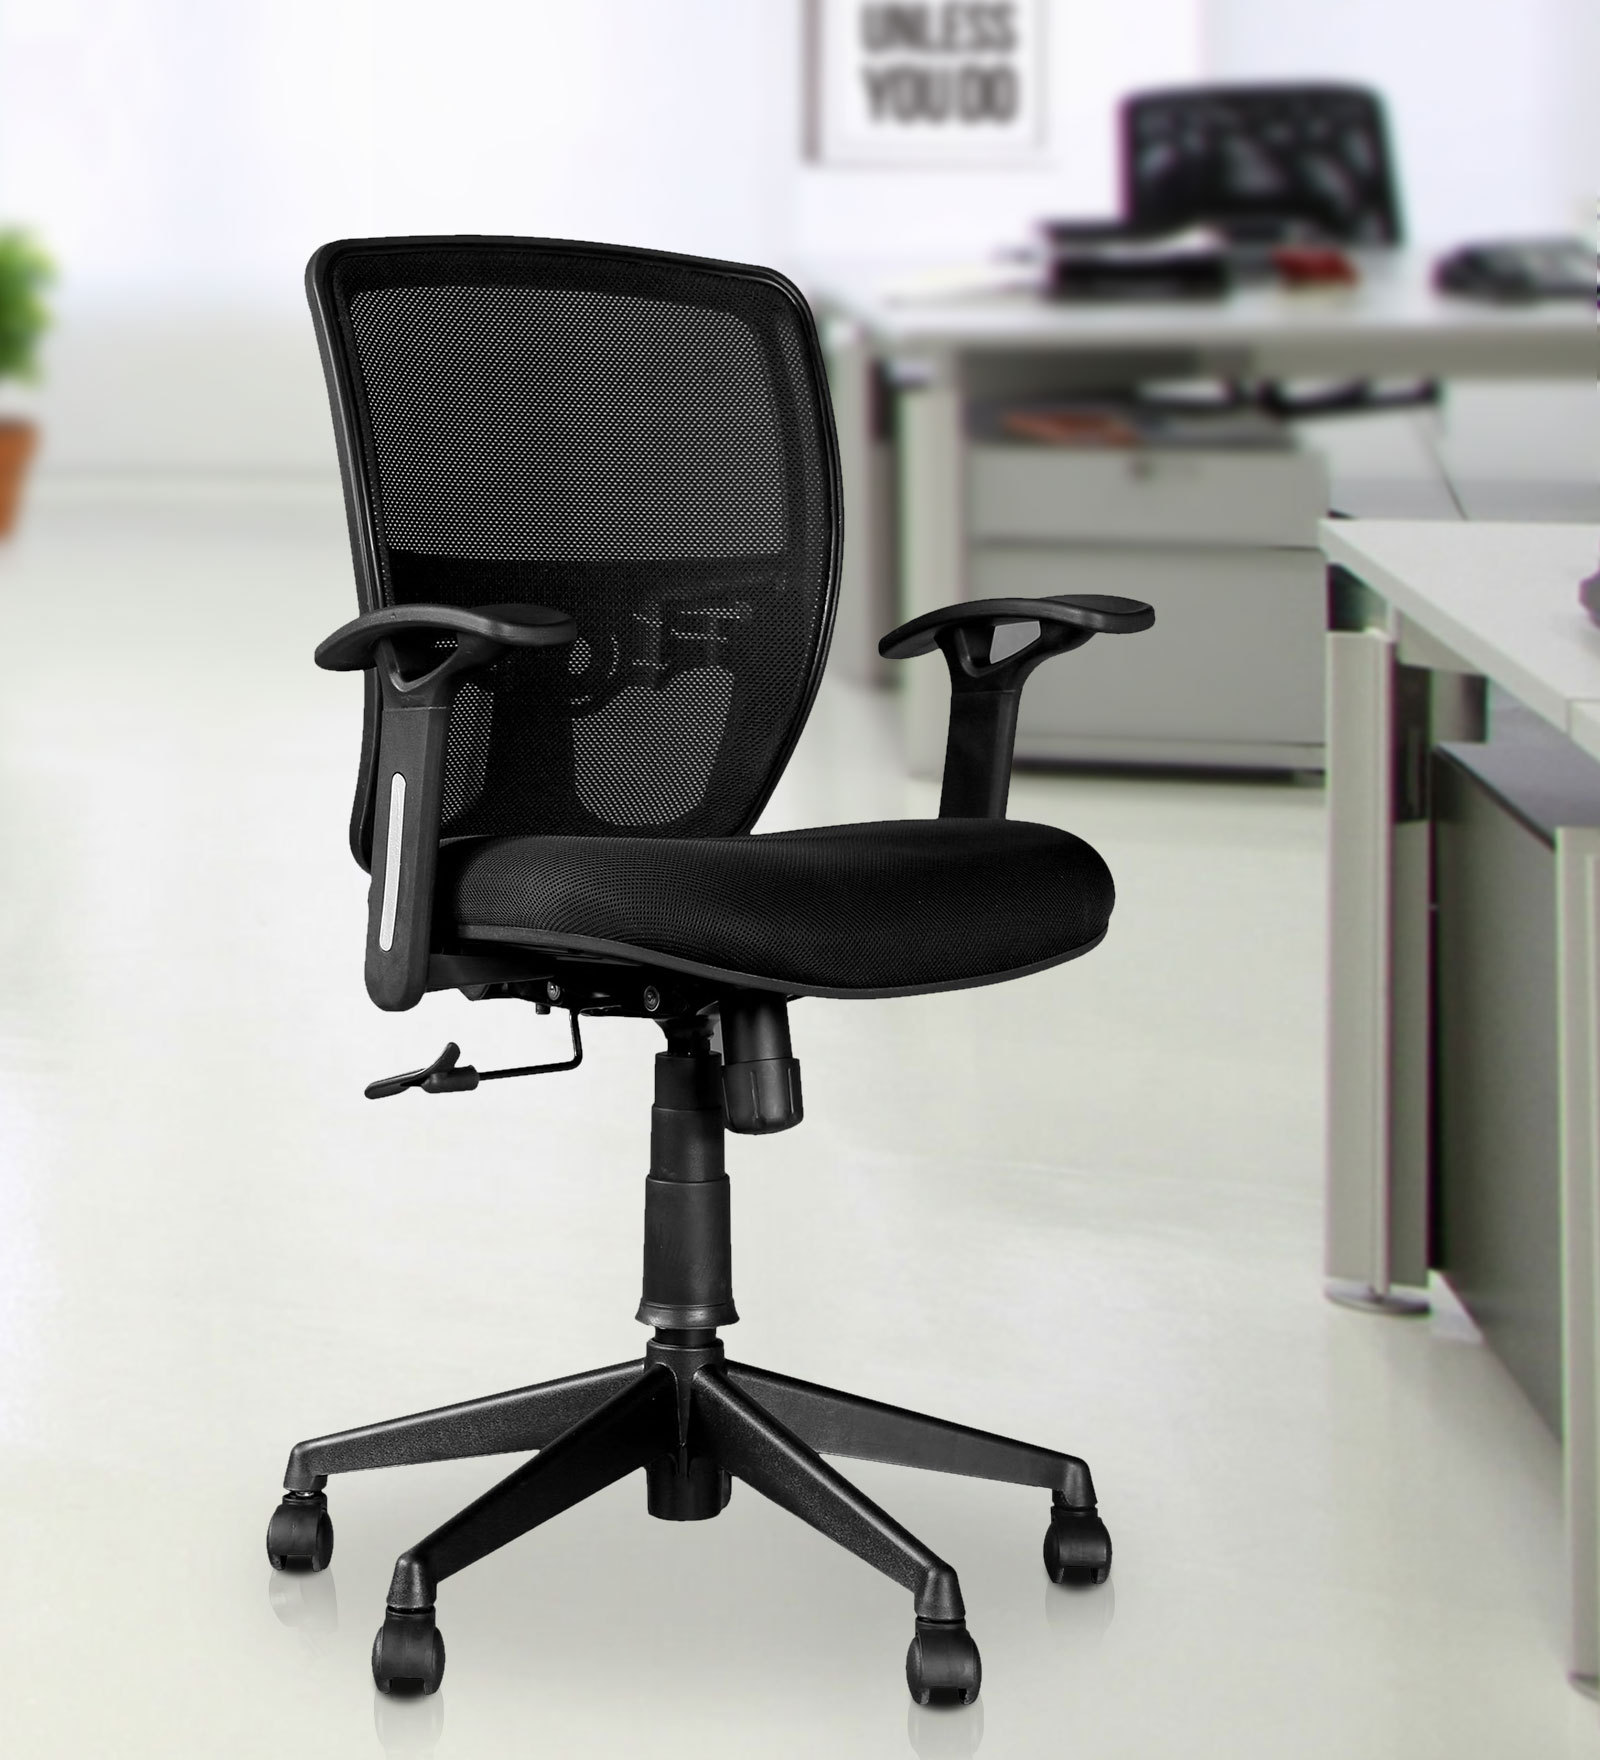Aspire High Back Ergonomic Chair in Black Colour by HomeTown: (225, 209, 1125, 1742)
